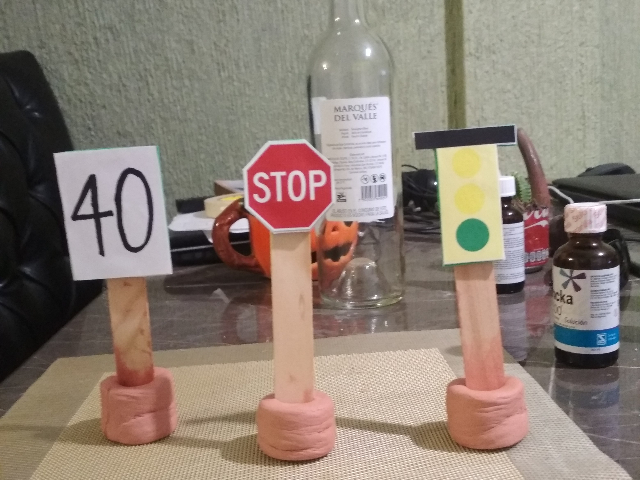Green: (412, 119, 521, 269)
Limit 40: (49, 143, 177, 281)
Stop: (240, 134, 339, 235)
